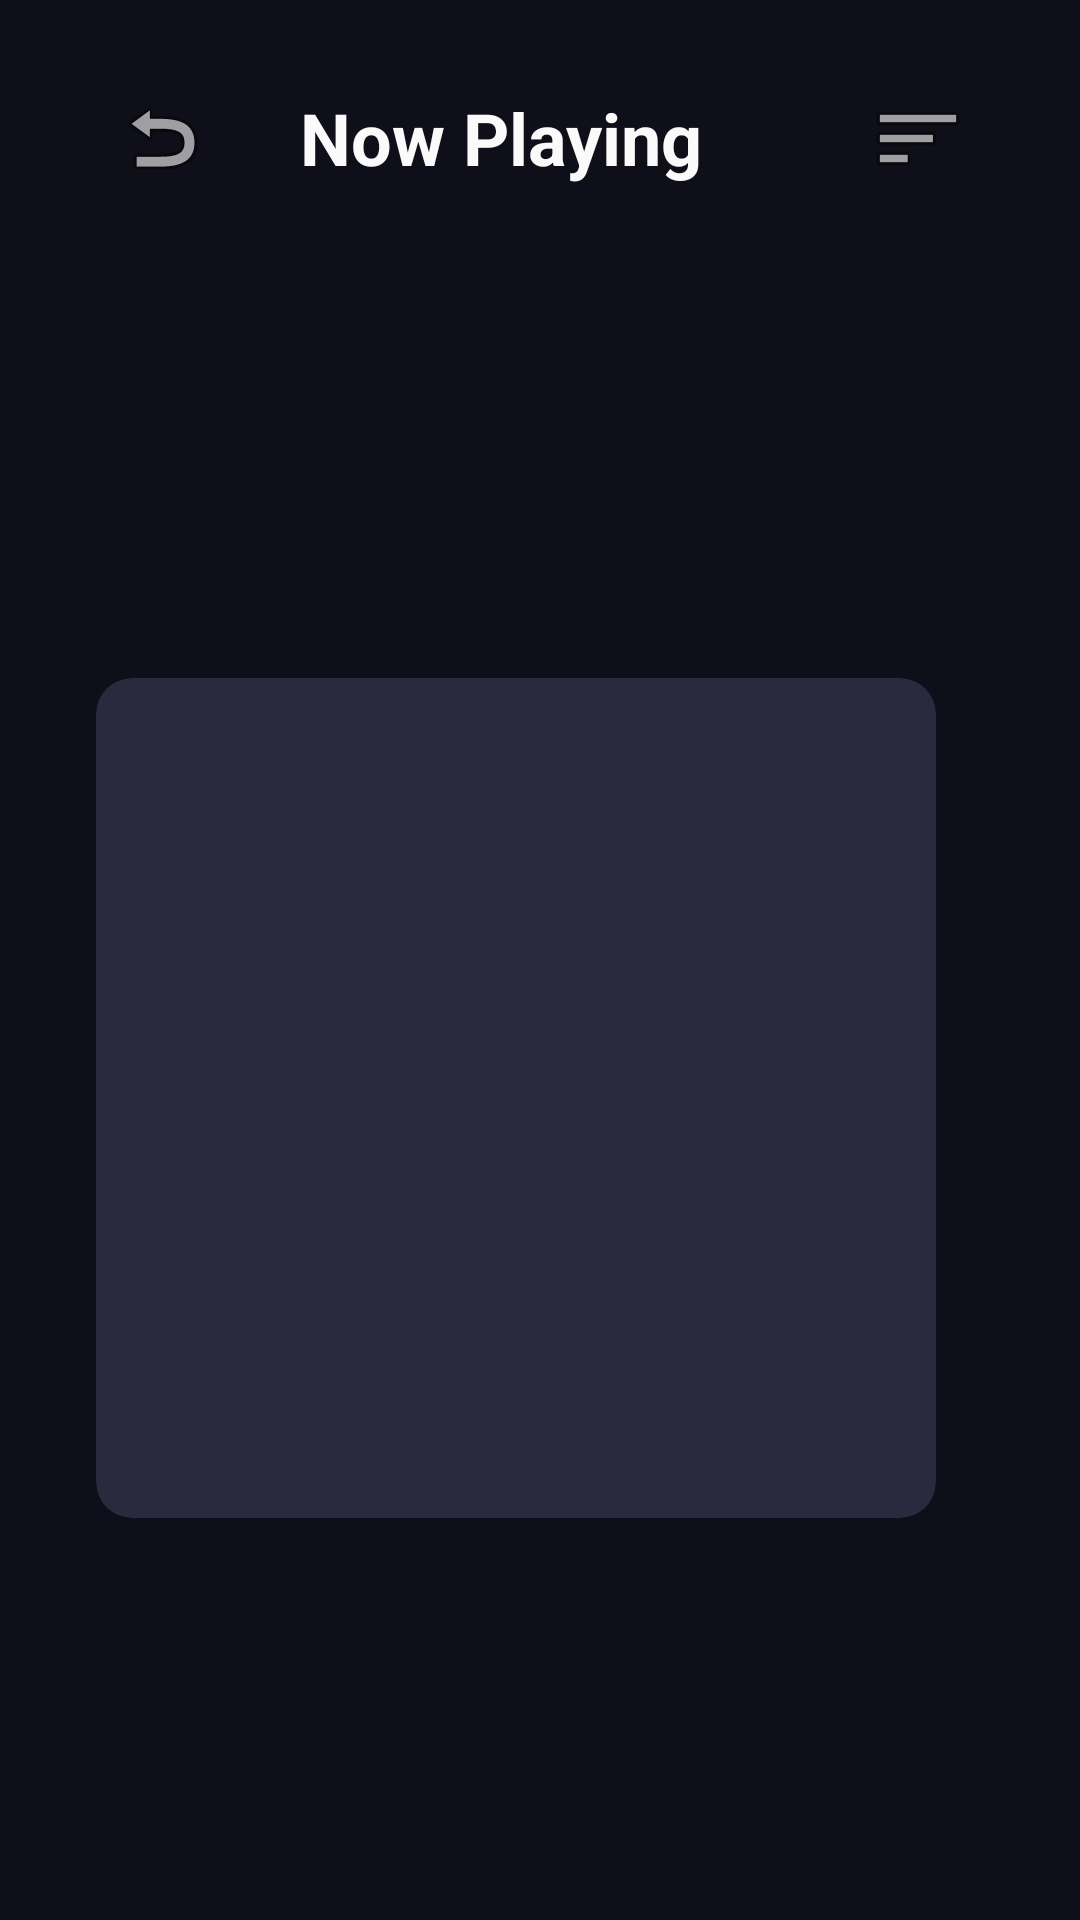

Icon bounding boxes for this 1080x1920 phone screenshot, format (x1, y1, x2, y2):
Back: (132, 110, 195, 167)
Queue: (880, 115, 956, 162)
